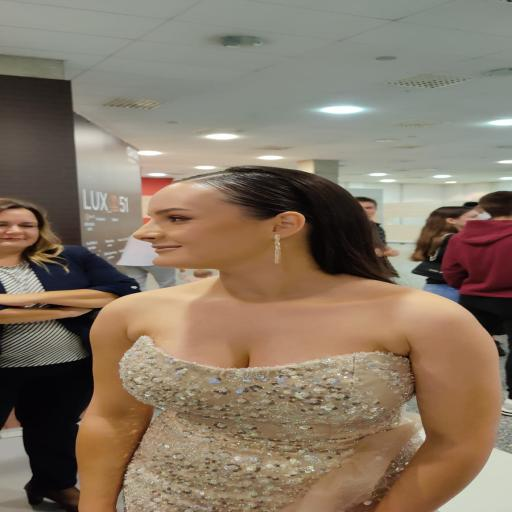marija: (135, 180, 268, 272)
